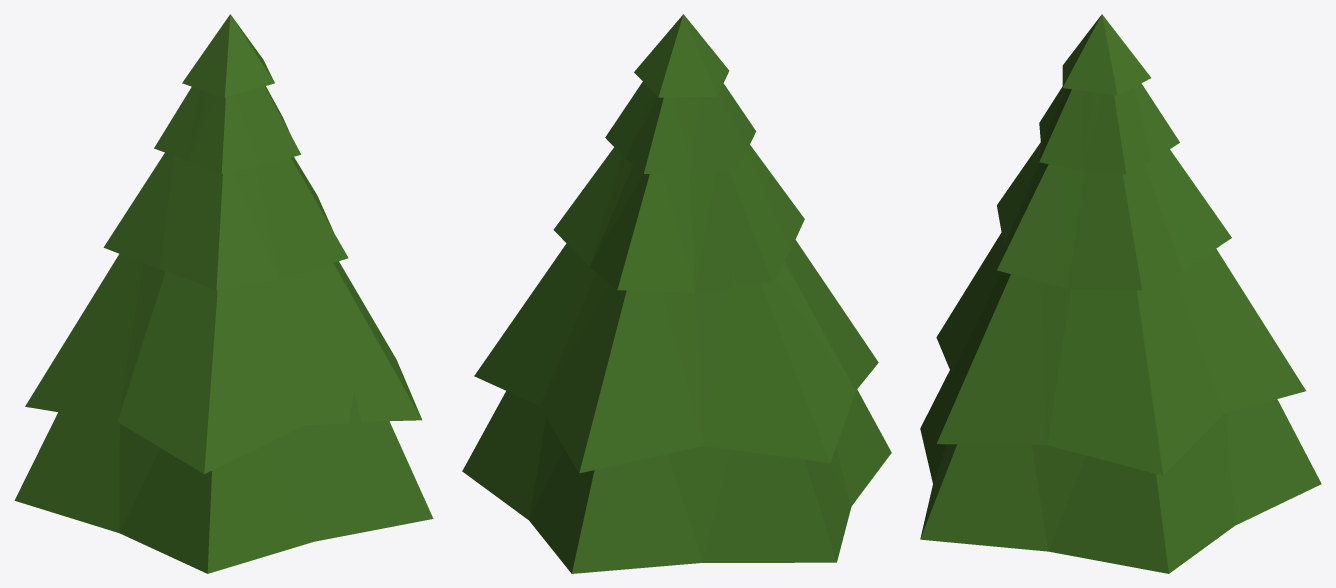
Rendered from lowpoly_pine_tree.fbx.
The picture shows the model from 3 angles, left to right: view 1: azimuth 30°, elevation 25°; view 2: azimuth 150°, elevation 25°; view 3: azimuth 270°, elevation 25°; orthographic projection. The views are drawn at different scales.
Parts seen in each view (by area): view 1: Tree; view 2: Tree; view 3: Tree.
Part boxes in pixels (left/top/right/bottom): Tree: left=14, top=14, right=433, bottom=573; Tree: left=462, top=14, right=891, bottom=573; Tree: left=920, top=14, right=1321, bottom=573.
Bounding box in the file's own units: 172 × 231 × 162.
